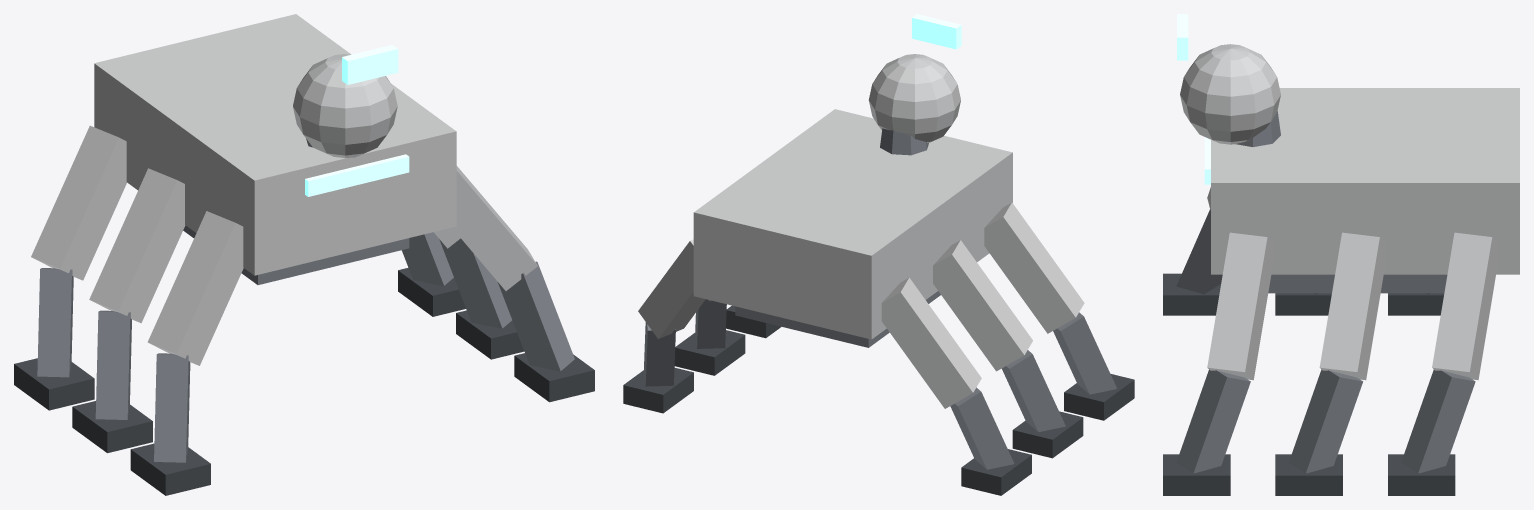
The model's file is hexapod-inspection.glb.
3 views of the same model, side by side, from view 1: azimuth 30°, elevation 25°; view 2: azimuth 150°, elevation 25°; view 3: azimuth 270°, elevation 25° (orthographic). The views are drawn at different scales.
Visible parts, largest first — view 1: hexapod-inspection, head/shell, head/glow; view 2: hexapod-inspection, head/shell, head/glow, head/graphite; view 3: hexapod-inspection, head/shell, head/graphite, head/glow.
Part boxes in pixels (bbox=[...]): hexapod-inspection: bbox=[14, 14, 594, 495]; head/shell: bbox=[293, 54, 397, 158]; head/glow: bbox=[342, 45, 398, 84]; hexapod-inspection: bbox=[623, 109, 1134, 495]; head/shell: bbox=[868, 54, 960, 143]; head/glow: bbox=[912, 14, 961, 49]; head/graphite: bbox=[880, 128, 928, 155]; hexapod-inspection: bbox=[1163, 88, 1519, 495]; head/shell: bbox=[1180, 44, 1280, 144]; head/graphite: bbox=[1235, 111, 1280, 146]; head/glow: bbox=[1177, 14, 1188, 60].
Size of the model in its own units: 0.85 by 0.725 by 0.635.
